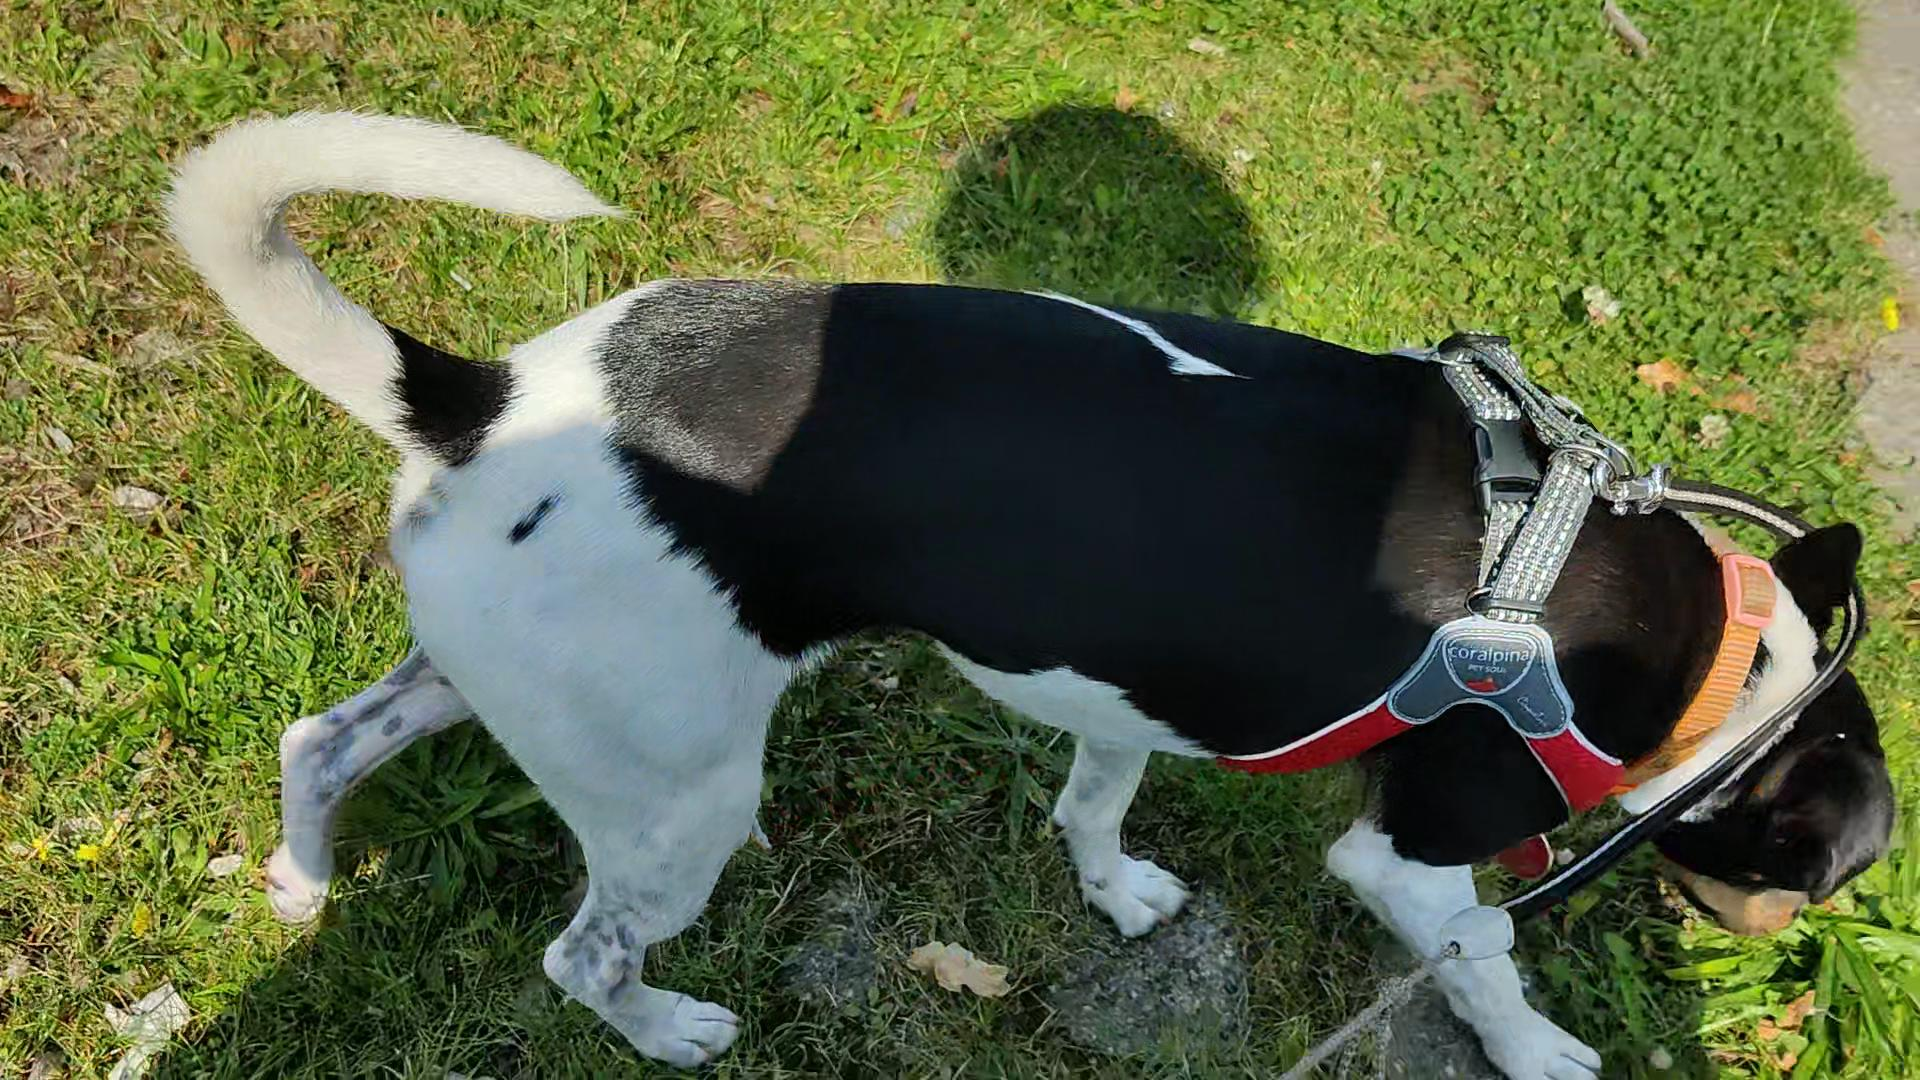Dog: (157, 105, 1911, 1079)
